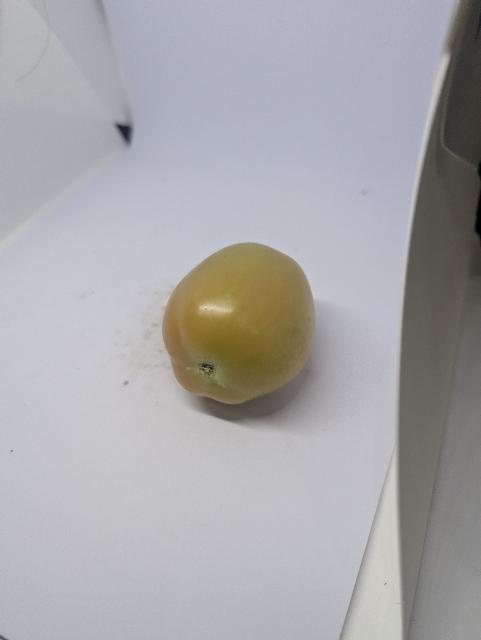breaker: (163, 243, 315, 404)
